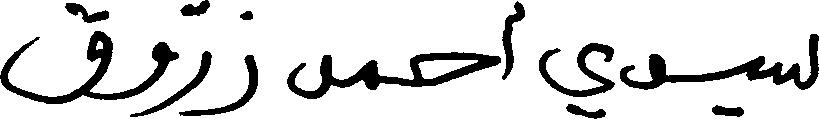X: (0, 0, 113, 108), (539, 38, 613, 118), (747, 29, 818, 94), (177, 0, 211, 118), (409, 47, 499, 91), (135, 37, 167, 118), (287, 50, 332, 103), (621, 49, 664, 94), (364, 55, 379, 94), (506, 10, 513, 82), (257, 64, 259, 90)
